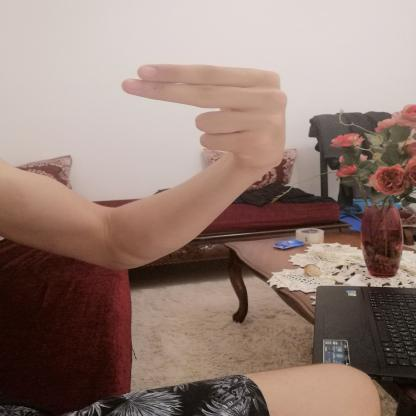AYN: (101, 54, 299, 177)
